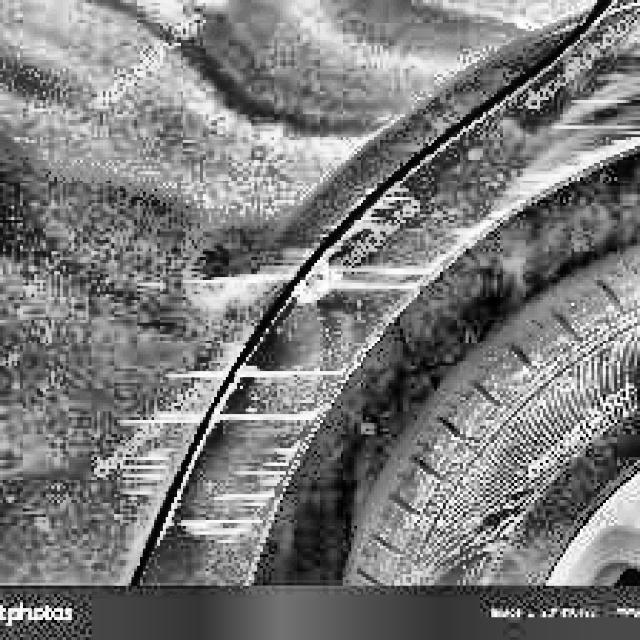door_dent: (166, 97, 334, 316)
